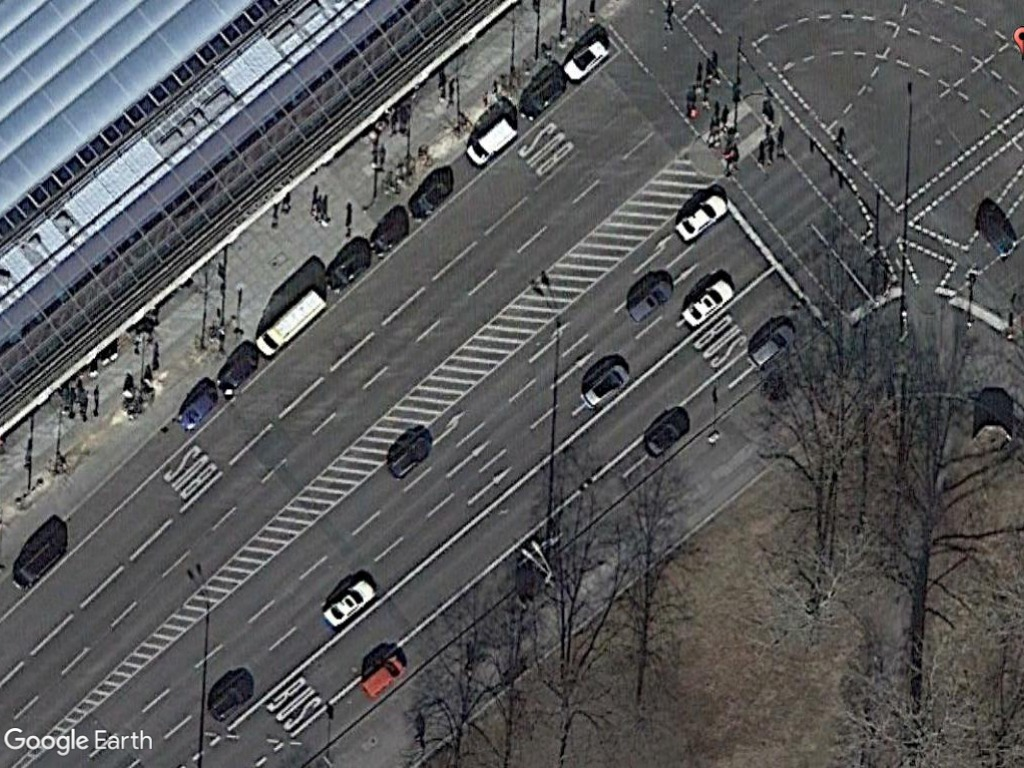car: (318, 575, 382, 632), (577, 358, 638, 412), (680, 275, 737, 332), (743, 319, 800, 376), (672, 191, 733, 242), (358, 649, 408, 707), (561, 34, 615, 87), (630, 275, 678, 326), (176, 384, 223, 436)
van: (254, 285, 331, 365), (462, 112, 521, 171)
